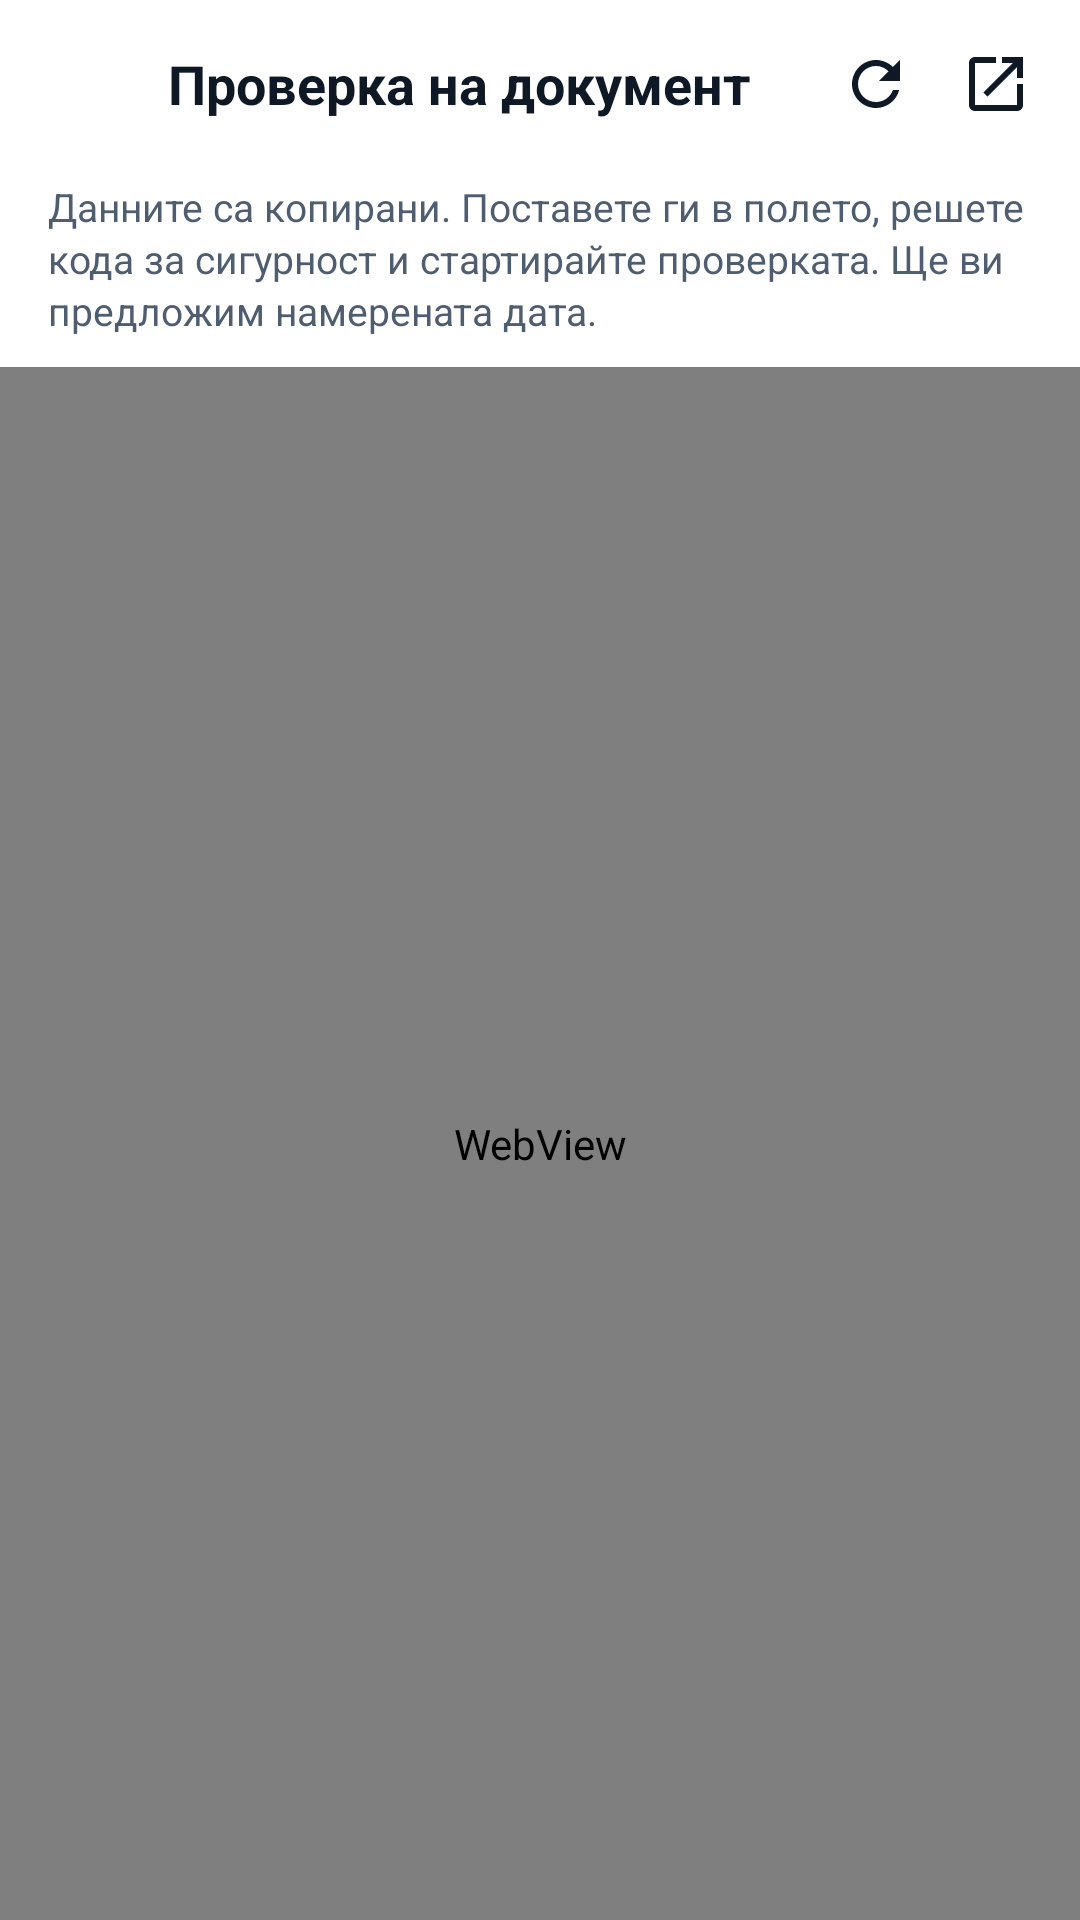

Icon bounding boxes for this 1080 x 1920 phone screenshot, format bbox(x1, y1, x2, y2):
Отвори в браузър: bbox(969, 57, 1023, 111)
Презареди: bbox(852, 60, 900, 108)
